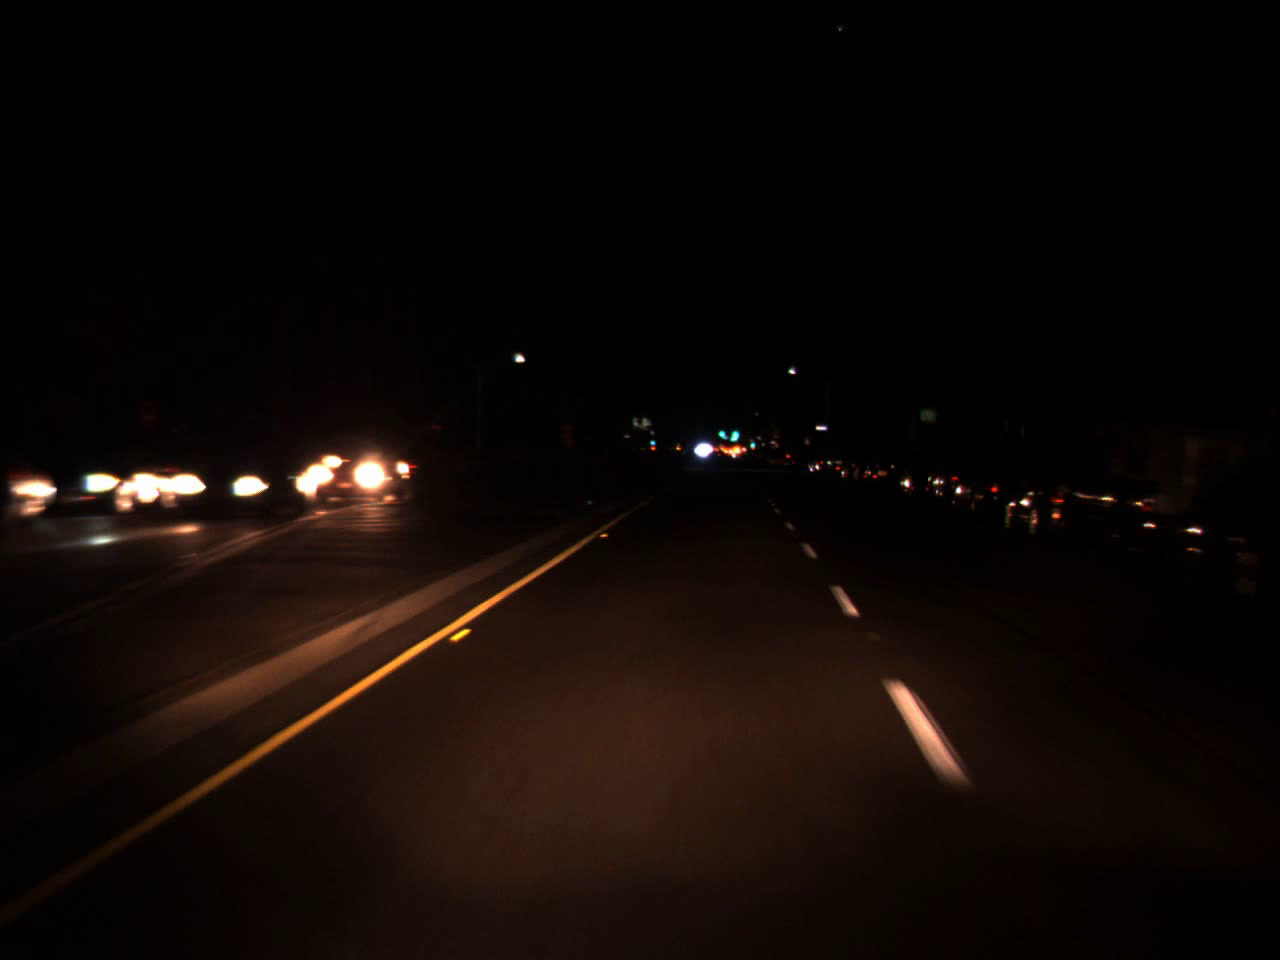go: (727, 419, 741, 440), (714, 421, 726, 439), (747, 433, 757, 451), (647, 432, 657, 447)
